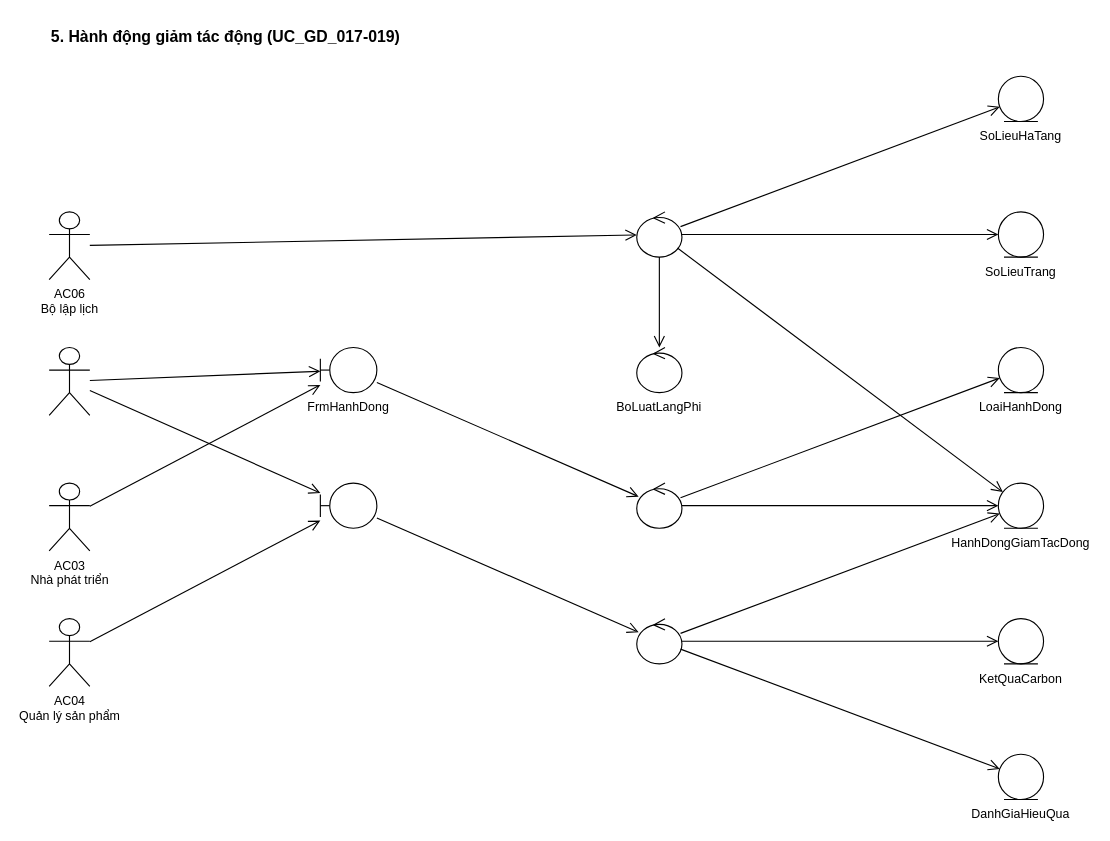
This 1110x841 diagram has some shape labels left out. The box of each missing label's shape, as (x1, y1, x2, y2) in pixels:
AC02 Kỹ sư DevOps: (48, 346, 90, 415)
DanhGiaController: (636, 618, 682, 664)
DeXuatController: (636, 211, 682, 257)
FrmDanhGia: (319, 482, 377, 528)
HanhDongController: (636, 482, 682, 528)
